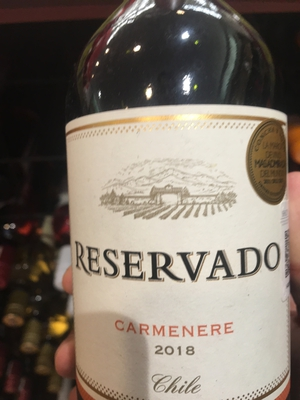reservado carmenere: (59, 6, 296, 400)
